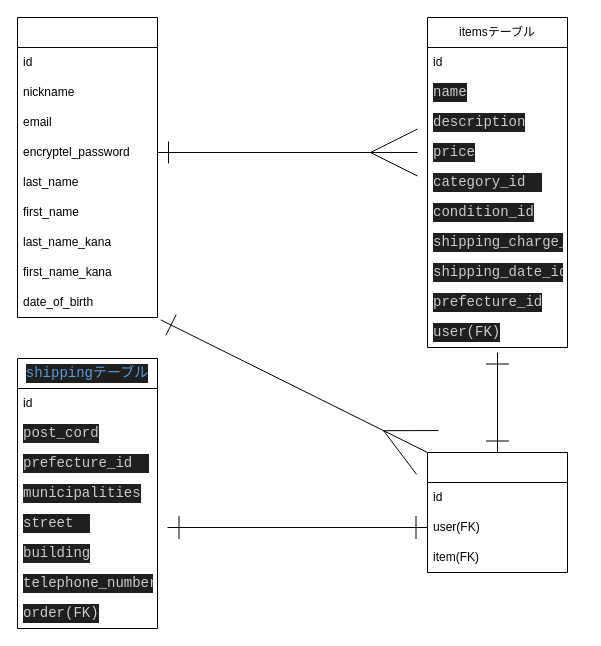
Image size: 601x646. Some labels were removed from this diagram. The box of each missing label's shape, as (x1, y1, x2, y2) in pixels:
ordersテーブル: (426, 452, 568, 572)
usersテーブル: (16, 16, 158, 318)
